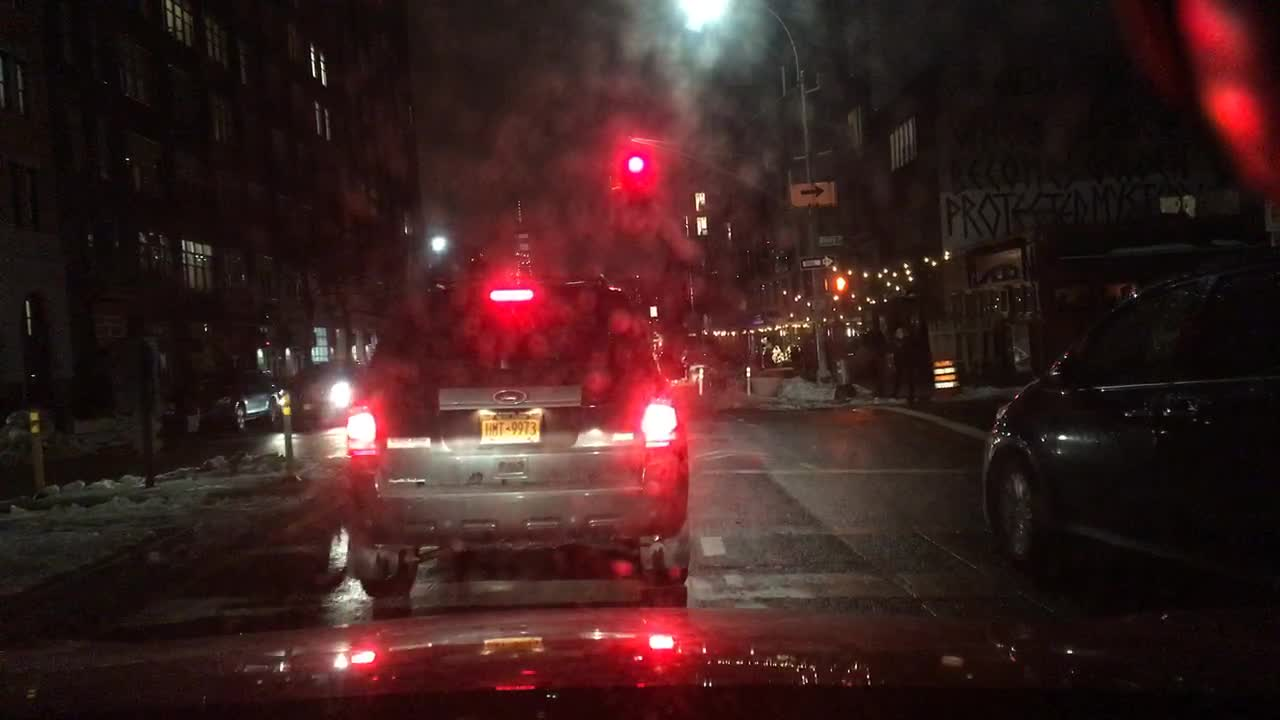car: (344, 269, 694, 602), (982, 348, 1279, 647), (109, 390, 218, 453), (285, 359, 372, 421), (218, 375, 294, 433)
traffic light: (627, 147, 646, 181)
traffic sign: (790, 182, 835, 207), (798, 254, 835, 268), (818, 236, 844, 247), (649, 304, 656, 318)
